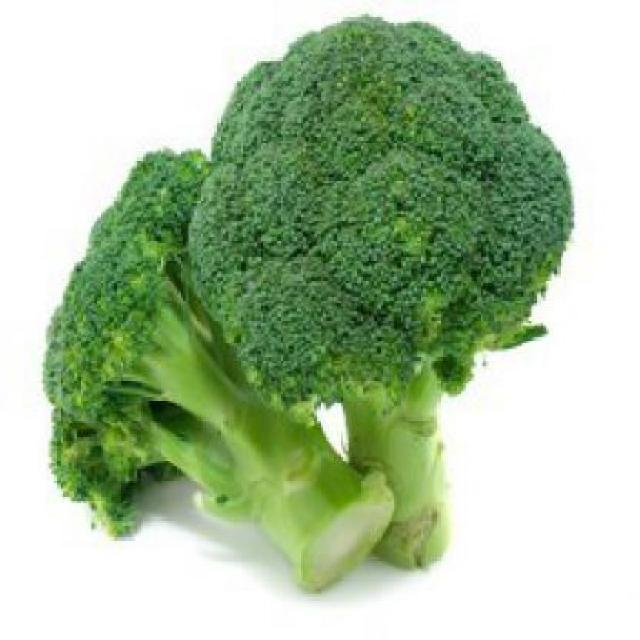broccoli: (220, 26, 557, 463), (42, 152, 372, 574)
